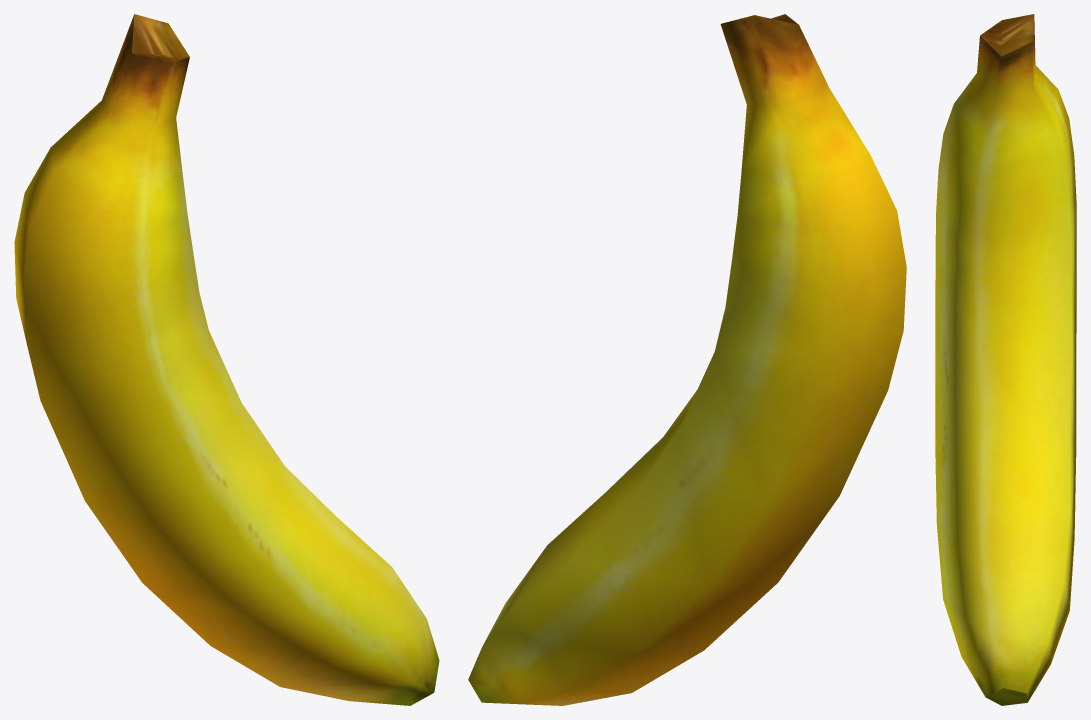
The model's file is banana.glb.
3 views of the same model, side by side, from view 1: azimuth 30°, elevation 25°; view 2: azimuth 150°, elevation 25°; view 3: azimuth 270°, elevation 25° (orthographic). The views are drawn at different scales.
Parts seen in each view (by area): view 1: Object_2; view 2: Object_2; view 3: Object_2.
Boxes of the visible parts, bbox=[...] form: Object_2: bbox=[14, 14, 439, 705]; Object_2: bbox=[468, 14, 906, 705]; Object_2: bbox=[935, 14, 1076, 705].
Size of the model in its own units: 20.16 by 34.38 by 7.45.
Materials: 1 (1 with a texture image).
